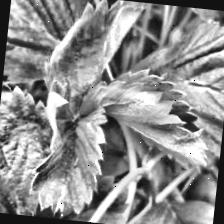Powdery Mildew Leaf: (91, 64, 219, 174), (26, 74, 114, 221), (41, 0, 148, 103)
